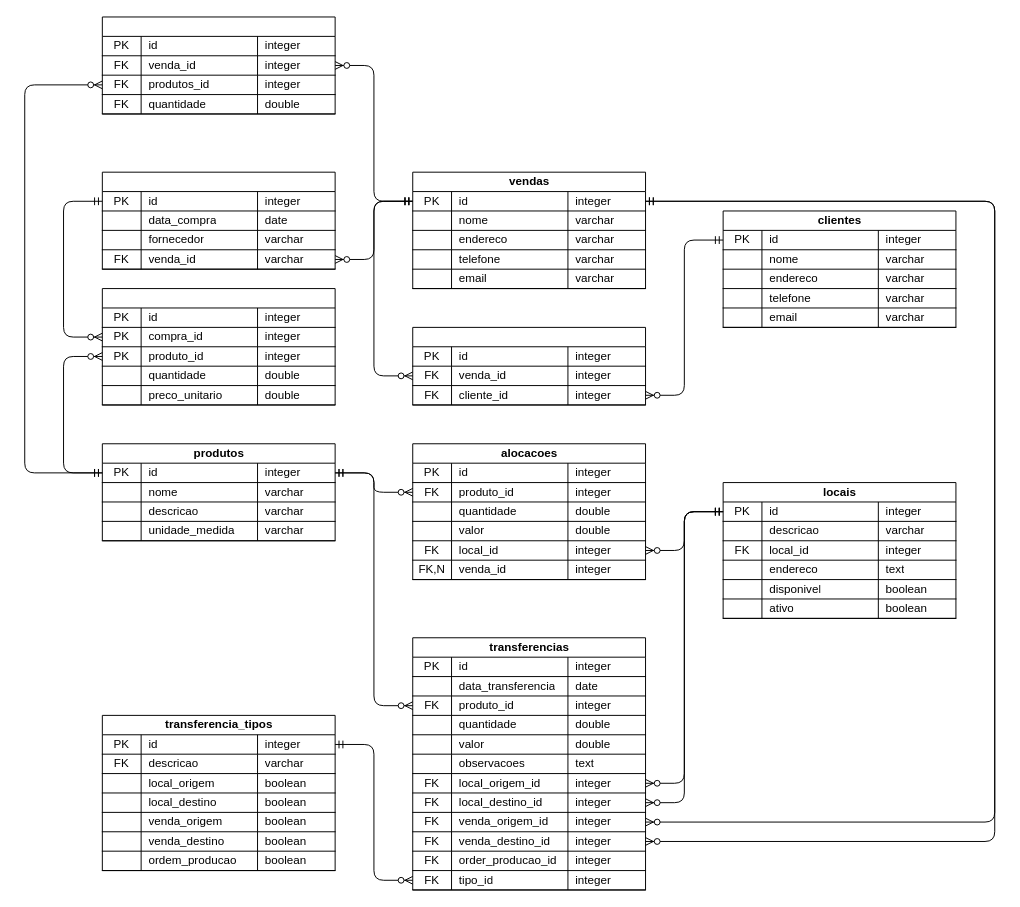
Image size: 1020x907. Some labels were removed from this diagram. The shapes that lost their labels are listed below. From the top down, each one's box as (x1, y1, x2, y2) in pixels, then its label:
(101, 16, 335, 114): venda_produtos
(101, 171, 335, 269): compras
(101, 288, 335, 405): compra_produto
(412, 326, 646, 405): cliente_vendas
